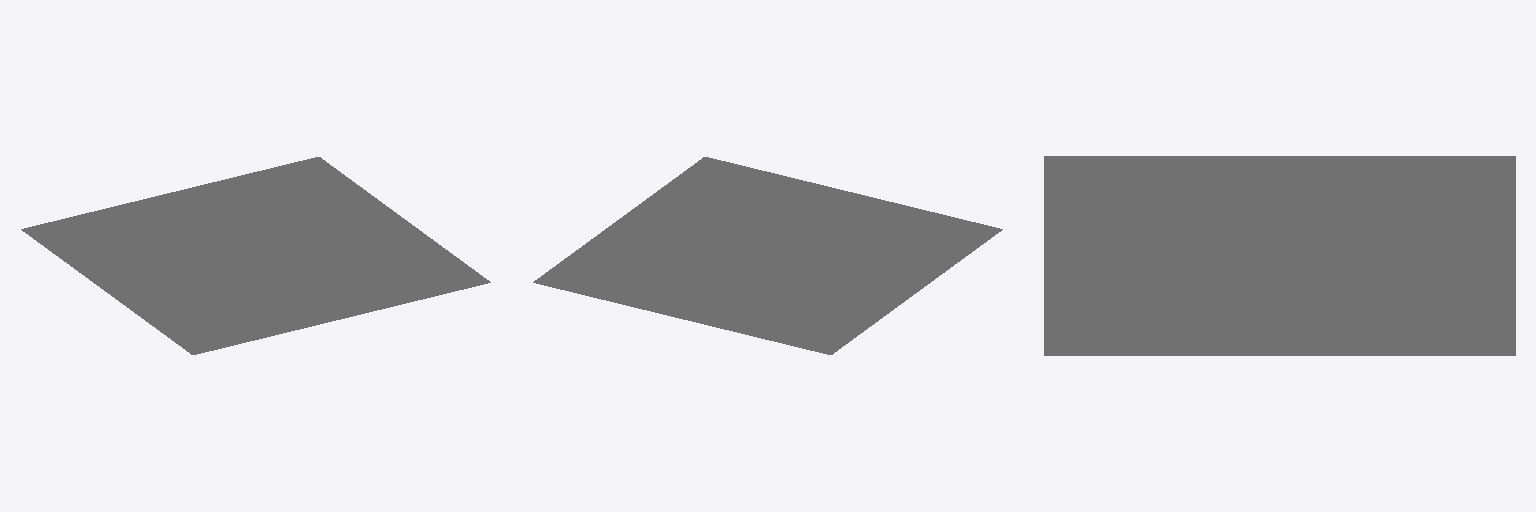
robot.urdf — plane:
<?xml version="1.0" ?>
<robot name="plane">
    <link name="planeLink">
        <contact>
            <lateral_friction value="1"/>
        </contact>
        <inertial>
            <origin rpy="0 0 0" xyz="0 0 0"/>
            <mass value=".0"/>
        <inertia ixx="0" ixy="0" ixz="0" iyy="0" iyz="0" izz="0"/>
        </inertial>
        <visual>
            <origin rpy="0 0 0" xyz="0 0 0"/>
            <geometry>
                <mesh filename="plane.obj" scale="1 1 1"/>
            </geometry>
            <material name="gray">
                <color rgba="0.5 0.5 0.5 0.5"/>
            </material>
        </visual>
        <collision>
            <origin rpy="0 0 0" xyz="0 0 -5"/>
            <geometry>
                <box size="100 100 10"/>
            </geometry>
        </collision>
    </link>
</robot>

--- Facts derived from the render (not from the file) ---
3 views of the same robot in one strip: view 1: azimuth 30°, elevation 25°; view 2: azimuth 150°, elevation 25°; view 3: azimuth 270°, elevation 25° (orthographic).
Model plane with 1 links and 0 joints (none), rooted at planeLink, posed every joint at zero.
Visible links, largest first — view 1: planeLink; view 2: planeLink; view 3: planeLink.
Link boxes in pixels (bbox=[...]): planeLink: bbox=[21, 157, 490, 354]; planeLink: bbox=[533, 157, 1002, 354]; planeLink: bbox=[1044, 156, 1515, 355].
Size in the robot's own frame: 100 by 100 by 0 metres.
Meshes: 1 distinct files referenced, 1 mesh visuals loaded (1 OBJ).
